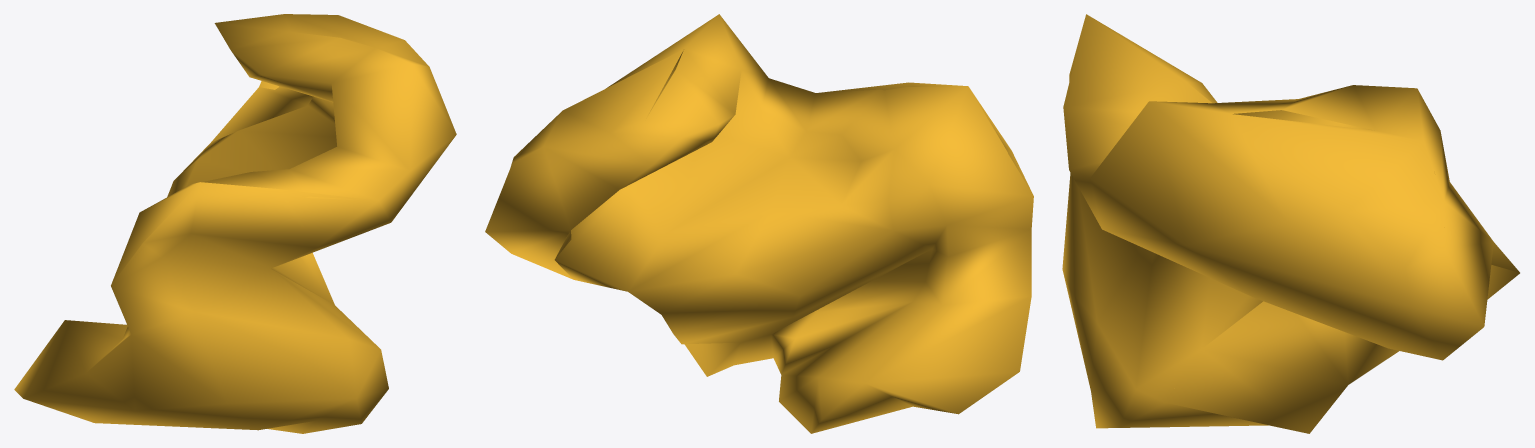
Rendered from nervoso-transverse-frontopolar-gyrus-and-sulcus-l.glb.
3 renders of one model, left to right at view 1: azimuth 30°, elevation 25°; view 2: azimuth 150°, elevation 25°; view 3: azimuth 270°, elevation 25°, orthographic. The views are drawn at different scales.
Parts seen in each view (by area): view 1: Transverse frontopolar gyrus and sulcus*.l; view 2: Transverse frontopolar gyrus and sulcus*.l; view 3: Transverse frontopolar gyrus and sulcus*.l.
Part boxes in pixels (left/top/right/bottom): Transverse frontopolar gyrus and sulcus*.l: left=14, top=14, right=456, bottom=433; Transverse frontopolar gyrus and sulcus*.l: left=485, top=14, right=1033, bottom=433; Transverse frontopolar gyrus and sulcus*.l: left=1062, top=14, right=1519, bottom=433.
Bounding box in the file's own units: 0.0232 × 0.0158 × 0.0174.
